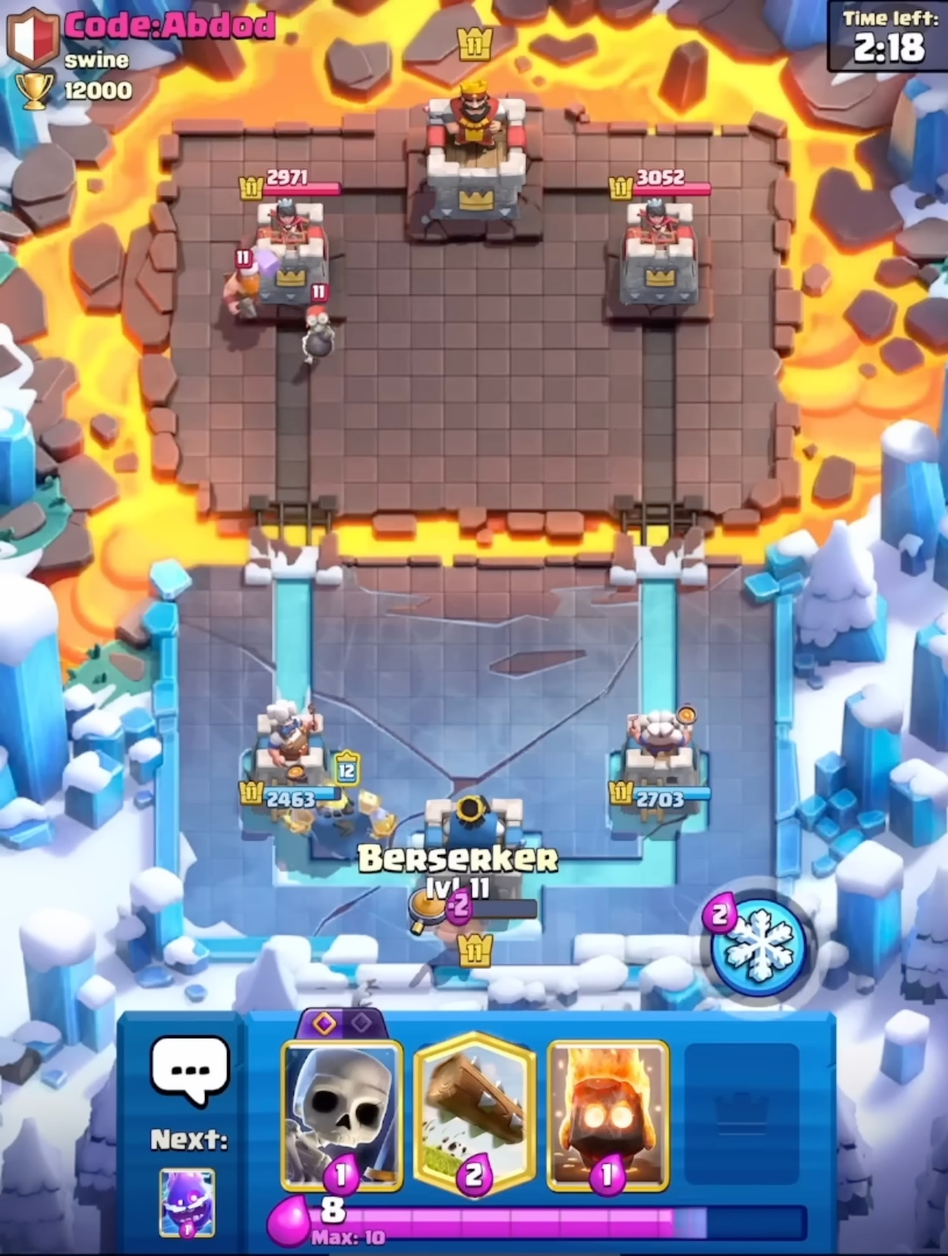hero-ice-golem: (285, 750, 398, 865)
